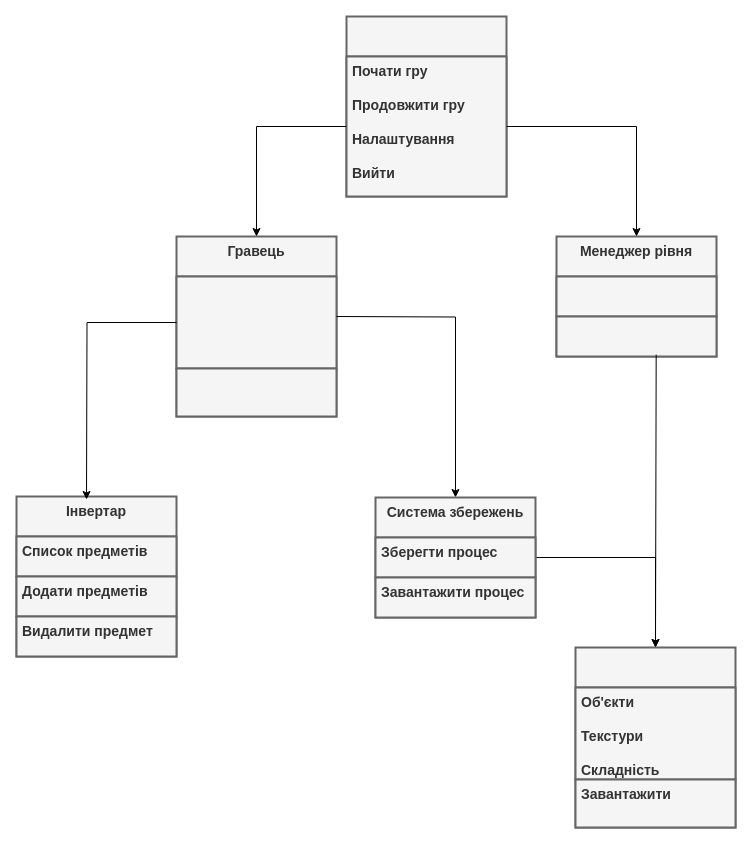
The diagram is 752 pixels wide and 844 high, and some of its shapes have lost their labels. The box of each missing label's shape, as (x1, y1, x2, y2) in pixels:
Виконати дію: (175, 367, 337, 417)
Завантажити рівень: (555, 275, 717, 317)
Меню гри: (345, 15, 507, 197)
Перезапустити рівень: (555, 315, 717, 357)
Рівень: (574, 646, 736, 828)
Ім'я Очки Інвертар: (175, 275, 337, 369)
